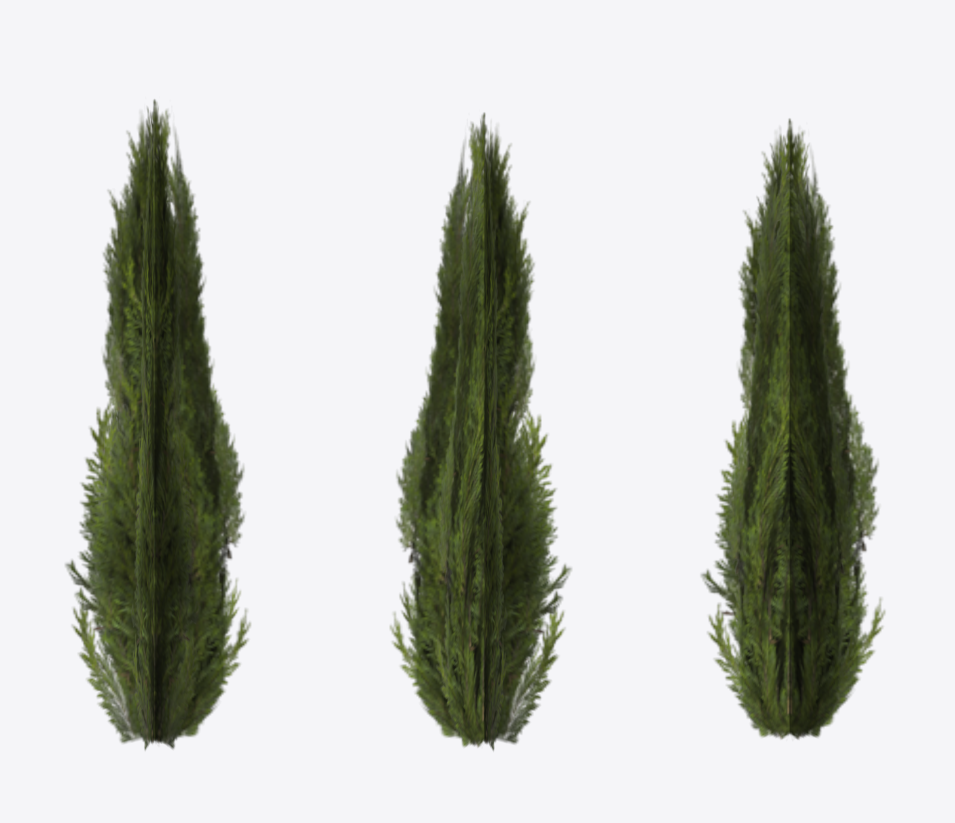
File: Bush_04.glb
The picture shows the model from 3 angles, left to right: view 1: azimuth 30°, elevation 25°; view 2: azimuth 150°, elevation 25°; view 3: azimuth 270°, elevation 25°; orthographic projection. The views are drawn at different scales.
Visible parts, largest first — view 1: Bush 04; view 2: Bush 04; view 3: Bush 04.
Boxes of the visible parts, box(x1,y1,x2,y2) form: Bush 04: box(65, 99, 250, 750); Bush 04: box(390, 112, 571, 750); Bush 04: box(700, 118, 885, 739).
Size of what is drawn, in the model's own units: 1.38 by 3.53 by 1.38.
Materials: 1 (1 with a texture image).
